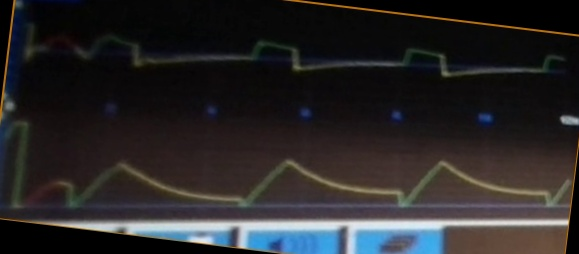Flow: (39, 27, 566, 96)
Leakage Volume: (31, 134, 565, 215)
